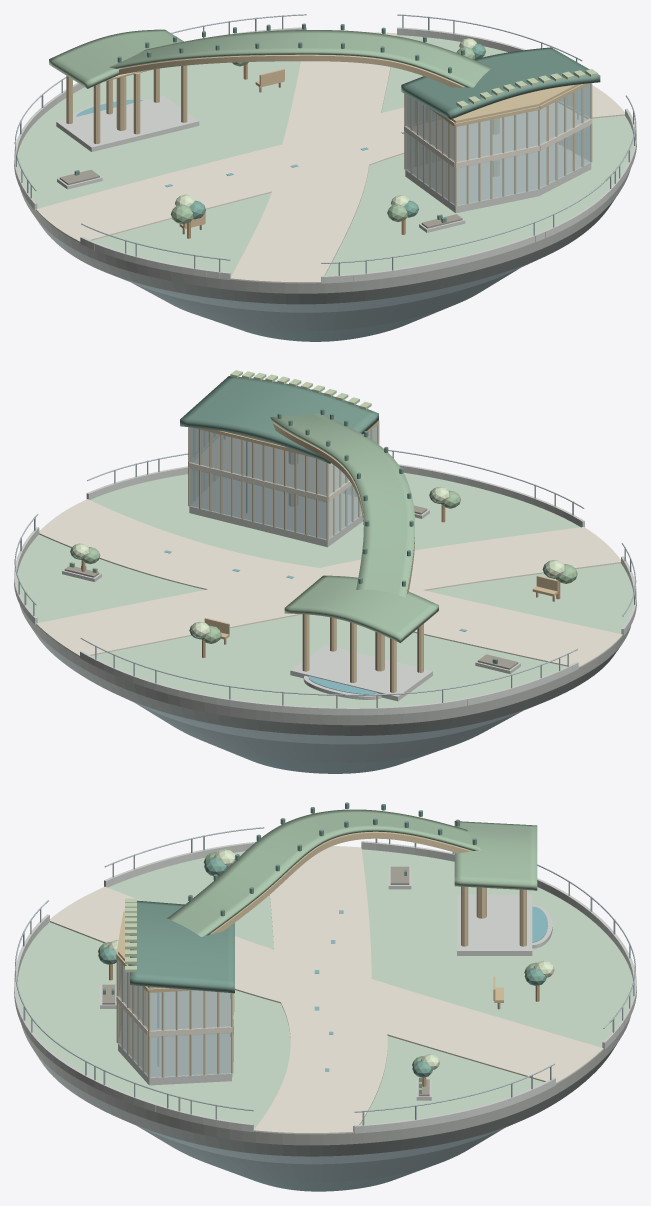
The picture shows the model from 3 angles, top to bottom: view 1: azimuth 30°, elevation 25°; view 2: azimuth 150°, elevation 25°; view 3: azimuth 270°, elevation 25°; orthographic projection. The views are drawn at different scales.
Parts seen in each view (by area): view 1: ROLE_terrain_Components__grass, ROLE_paving_Components__paveLight, ROLE_building_Components__mistglass, ROLE_roof_Components__ecoLeaf, ROLE_building_Components__ecoWood, ROLE_building_Components__stone2, ROLE_rails_Components__stone2, ROLE_terrain_Components__stone2, ROLE_roof_Components__ecoDeep, ROLE_terrain_Components__cliff3, ROLE_terrain_Components__cliff2, ROLE_building_Components__paveLight (+12 smaller); view 2: ROLE_terrain_Components__grass, ROLE_paving_Components__paveLight, ROLE_roof_Components__ecoLeaf, ROLE_building_Components__mistglass, ROLE_building_Components__stone2, ROLE_rails_Components__stone2, ROLE_roof_Components__ecoDeep, ROLE_building_Components__ecoWood, ROLE_terrain_Components__stone2, ROLE_terrain_Components__cliff3, ROLE_terrain_Components__cliff2, ROLE_building_Components__paveLight (+11 smaller); view 3: ROLE_terrain_Components__grass, ROLE_paving_Components__paveLight, ROLE_roof_Components__ecoLeaf, ROLE_building_Components__mistglass, ROLE_rails_Components__stone2, ROLE_building_Components__stone2, ROLE_roof_Components__ecoDeep, ROLE_building_Components__ecoWood, ROLE_terrain_Components__stone2, ROLE_terrain_Components__cliff3, ROLE_terrain_Components__cliff2, ROLE_building_Components__paveLight (+10 smaller).
Part boxes in pixels (box(x1,y1,x2,y2)): ROLE_terrain_Components__grass: box(17, 35, 633, 276); ROLE_paving_Components__paveLight: box(36, 32, 624, 283); ROLE_building_Components__mistglass: box(405, 83, 591, 205); ROLE_roof_Components__ecoLeaf: box(49, 29, 491, 88); ROLE_building_Components__ecoWood: box(66, 54, 592, 206); ROLE_building_Components__stone2: box(56, 95, 591, 213); ROLE_rails_Components__stone2: box(14, 27, 636, 283); ROLE_terrain_Components__stone2: box(20, 169, 630, 293); ROLE_roof_Components__ecoDeep: box(401, 47, 600, 119); ROLE_terrain_Components__cliff3: box(34, 195, 617, 304); ROLE_terrain_Components__cliff2: box(132, 268, 518, 330); ROLE_building_Components__paveLight: box(404, 101, 592, 168); ROLE_terrain_Components__grass: box(17, 472, 633, 707); ROLE_paving_Components__paveLight: box(36, 499, 622, 667); ROLE_roof_Components__ecoLeaf: box(270, 413, 438, 642); ROLE_building_Components__mistglass: box(189, 424, 378, 539); ROLE_building_Components__stone2: box(189, 477, 432, 701); ROLE_rails_Components__stone2: box(14, 464, 636, 715); ROLE_roof_Components__ecoDeep: box(180, 376, 378, 463); ROLE_building_Components__ecoWood: box(188, 420, 423, 692); ROLE_terrain_Components__stone2: box(20, 605, 630, 725); ROLE_terrain_Components__cliff3: box(30, 626, 621, 735); ROLE_terrain_Components__cliff2: box(136, 703, 521, 762); ROLE_building_Components__paveLight: box(188, 434, 351, 502); ROLE_terrain_Components__grass: box(17, 849, 633, 1129); ROLE_paving_Components__paveLight: box(50, 846, 603, 1134); ROLE_roof_Components__ecoLeaf: box(167, 809, 537, 936); ROLE_building_Components__mistglass: box(117, 959, 231, 1077); ROLE_rails_Components__stone2: box(14, 841, 636, 1133); ROLE_building_Components__stone2: box(118, 894, 532, 1085); ROLE_roof_Components__ecoDeep: box(130, 900, 234, 993); ROLE_building_Components__ecoWood: box(116, 831, 526, 1077); ROLE_terrain_Components__stone2: box(21, 1016, 630, 1145); ROLE_terrain_Components__cliff3: box(34, 1043, 617, 1156); ROLE_terrain_Components__cliff2: box(137, 1126, 503, 1182); ROLE_building_Components__paveLight: box(116, 967, 234, 1037).
Size of the model in its own units: 33.65 by 16.2 by 30.81.
